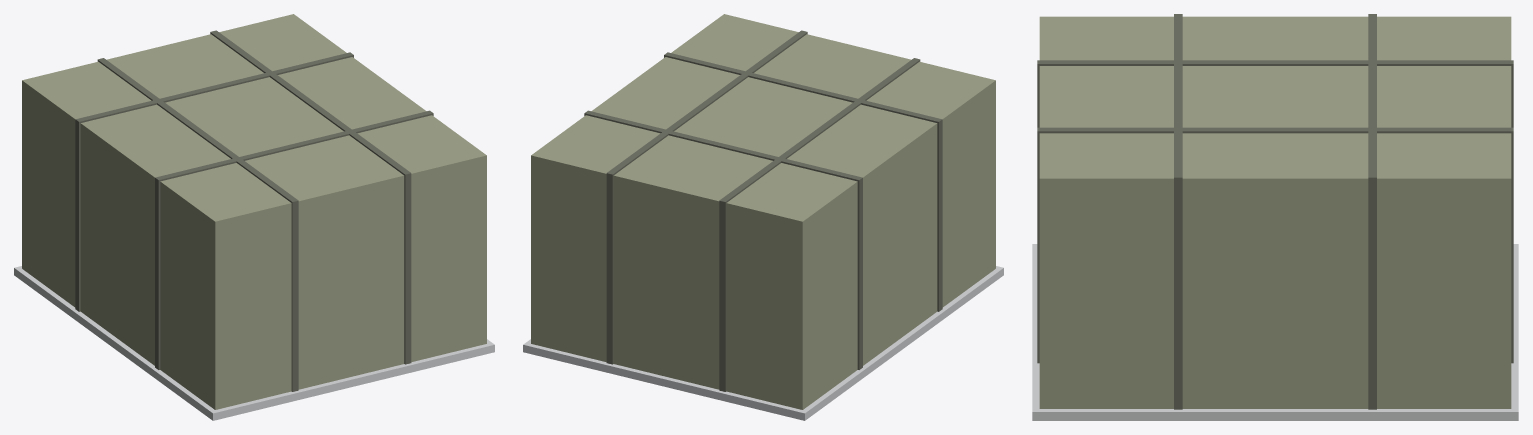
Rendered from 463lpallet.glb.
3 views of the same model, side by side, from view 1: azimuth 30°, elevation 25°; view 2: azimuth 150°, elevation 25°; view 3: azimuth 270°, elevation 25° (orthographic). The views are drawn at different scales.
Parts seen in each view (by area): view 1: 463lpallet-body; view 2: 463lpallet-body; view 3: 463lpallet-body.
Boxes of the visible parts, <box> form: 463lpallet-body: <box>14,14,494,420</box>; 463lpallet-body: <box>523,14,1003,420</box>; 463lpallet-body: <box>1032,14,1518,420</box>.
Size of the model in its own units: 2.24 by 1.5 by 2.74.
